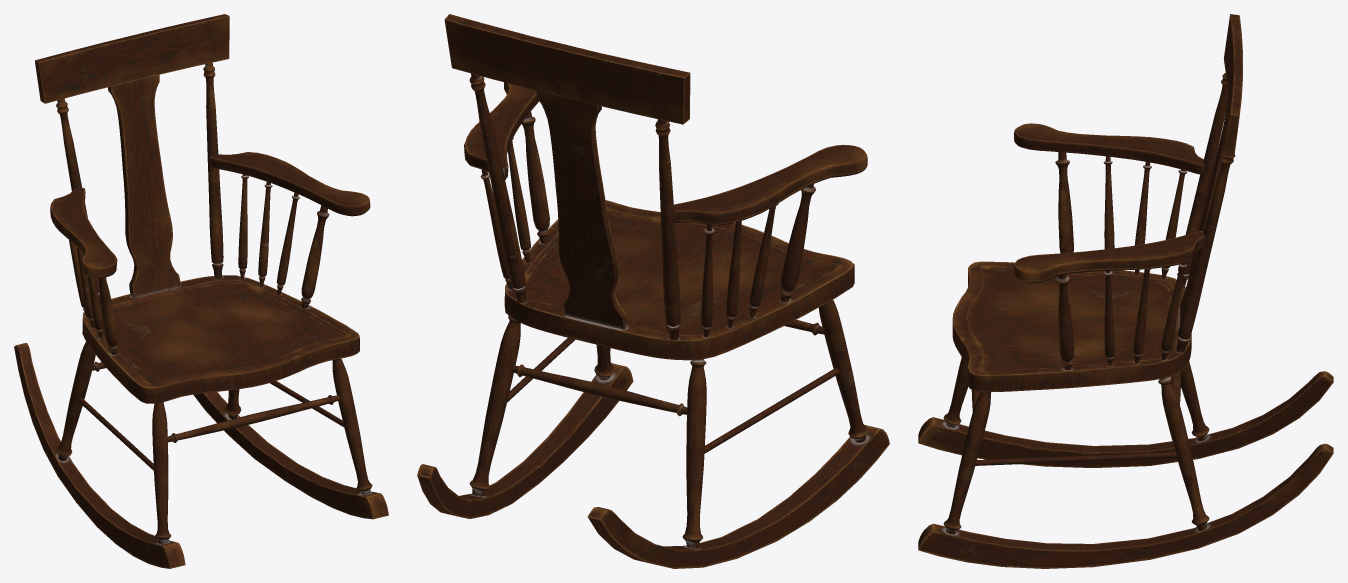
File: Rockingchair_01_1k.obj
3 renders of one model, left to right at view 1: azimuth 30°, elevation 25°; view 2: azimuth 150°, elevation 25°; view 3: azimuth 270°, elevation 25°, orthographic. The views are drawn at different scales.
Parts seen in each view (by area): view 1: Rockingchair_01; view 2: Rockingchair_01; view 3: Rockingchair_01.
Boxes of the visible parts, left/top/right/bottom form: Rockingchair_01: left=14, top=14, right=388, bottom=568; Rockingchair_01: left=417, top=14, right=889, bottom=568; Rockingchair_01: left=918, top=14, right=1333, bottom=568.
Size of the model in its own units: 0.7081 by 0.9949 by 0.8335.
Materials: 1 (1 with a texture image).
